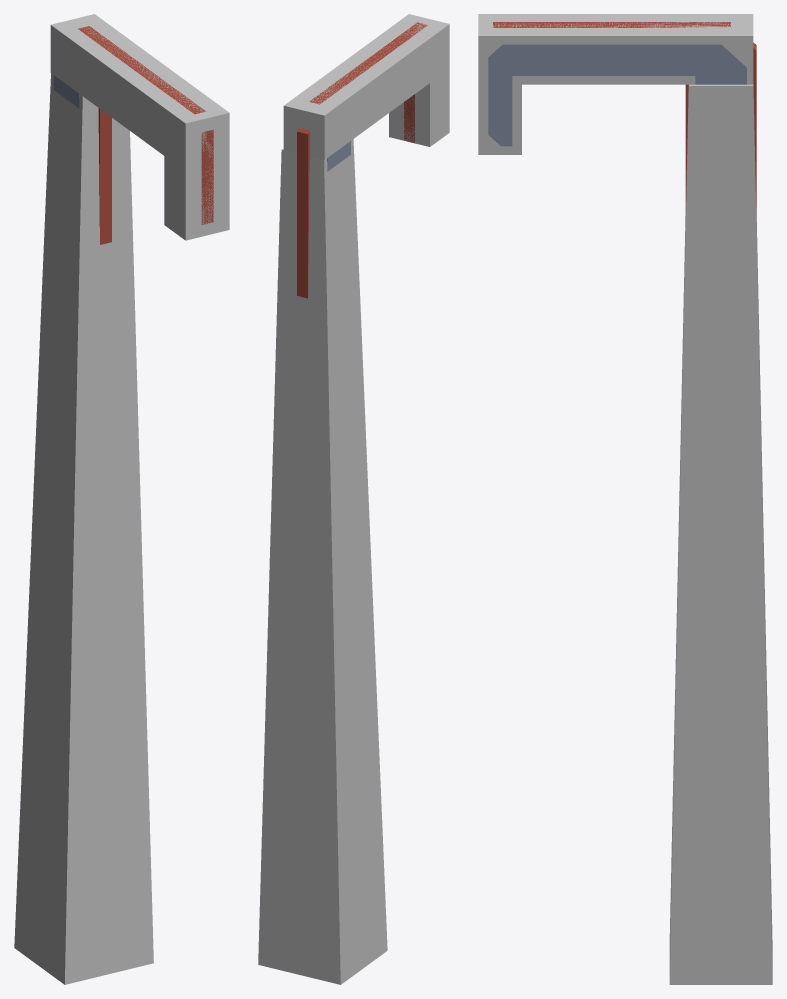
File: SM_Train_Column_01.fbx
The picture shows the model from 3 angles, left to right: view 1: azimuth 30°, elevation 25°; view 2: azimuth 150°, elevation 25°; view 3: azimuth 270°, elevation 25°; orthographic projection. The views are drawn at different scales.
Parts seen in each view (by area): view 1: SM_Train_Column_01_ConvexHulls, SM_Train_Column_01; view 2: SM_Train_Column_01_ConvexHulls, SM_Train_Column_01; view 3: SM_Train_Column_01_ConvexHulls, SM_Train_Column_01.
Boxes of the visible parts, x1,y1,x2,y2 form: SM_Train_Column_01_ConvexHulls: (14,14,229,984); SM_Train_Column_01: (53,26,213,244); SM_Train_Column_01_ConvexHulls: (258,14,449,984); SM_Train_Column_01: (297,22,427,298); SM_Train_Column_01_ConvexHulls: (478,14,772,984); SM_Train_Column_01: (488,22,756,222).
Bounding box in the file's own units: 121 × 341 × 1202.
Materials: 2 (1 with a texture image).
